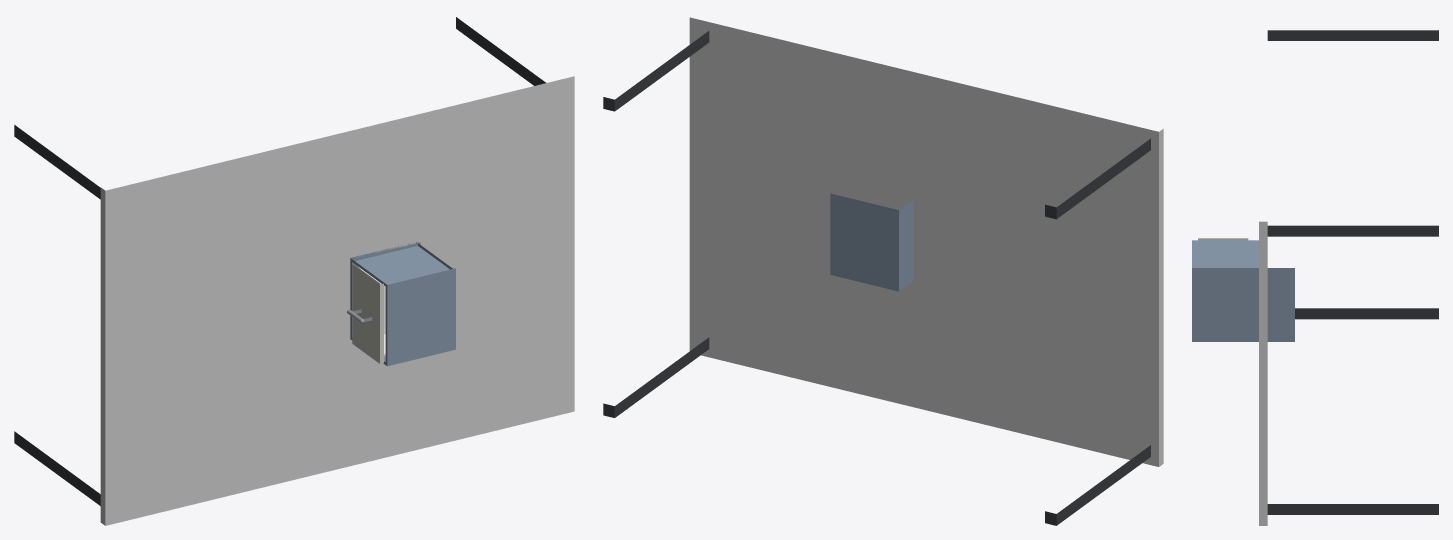
3 renders of one model, left to right at view 1: azimuth 30°, elevation 25°; view 2: azimuth 150°, elevation 25°; view 3: azimuth 270°, elevation 25°, orthographic. The views are drawn at different scales.
Parts seen in each view (by area): view 1: s0, s1, s2; view 2: s0, s1; view 3: s0, s1.
Part boxes in pixels (<box>): s0: <box>14,17,574,525</box>; s1: <box>350,242,455,366</box>; s2: <box>347,264,385,363</box>; s0: <box>603,17,1163,525</box>; s1: <box>830,193,913,291</box>; s0: <box>1259,30,1438,525</box>; s1: <box>1192,240,1294,341</box>.
Bounding box in the file's own units: 2.05 × 1.4 × 1.03.
